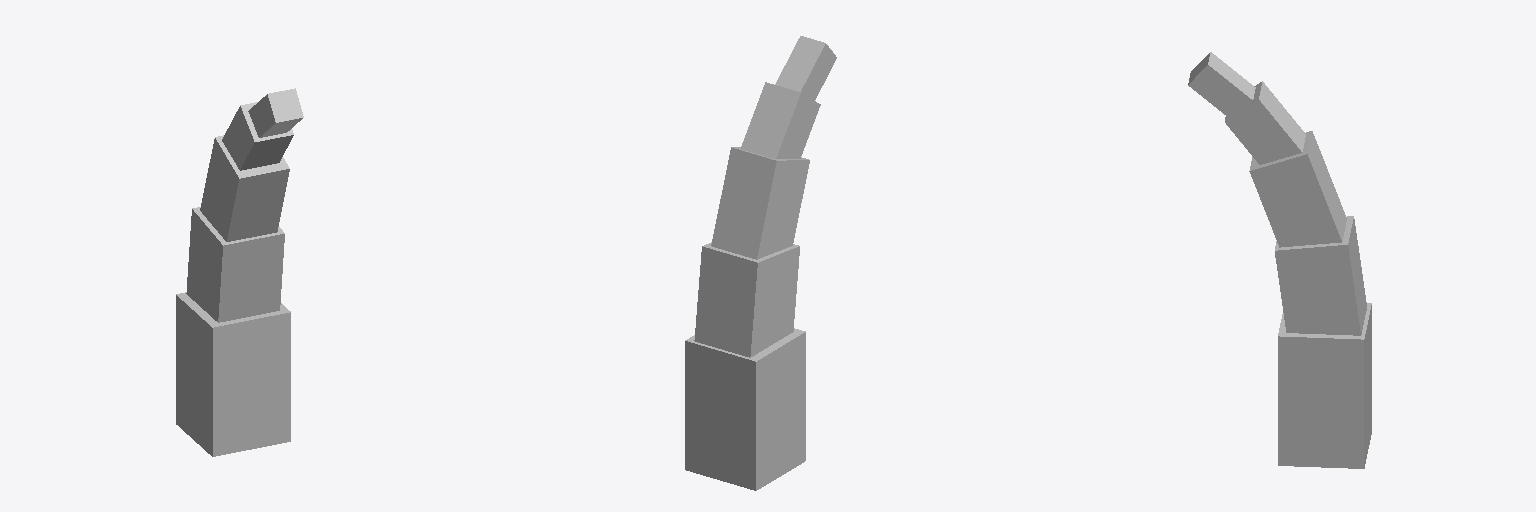
File: tusk_s_2.obj
The picture shows the model from 3 angles: view 1: azimuth 30°, elevation 25°; view 2: azimuth 150°, elevation 25°; view 3: azimuth 270°, elevation 25°; orthographic projection.
Visible parts, largest first — view 1: cube; view 2: cube; view 3: cube.
Boxes of the visible parts, x1,y1,x2,y2 form: cube: [176, 88, 303, 456]; cube: [685, 36, 836, 490]; cube: [1188, 52, 1371, 468].
Size of the model in its own units: 0.7015 by 3.17 by 1.37.